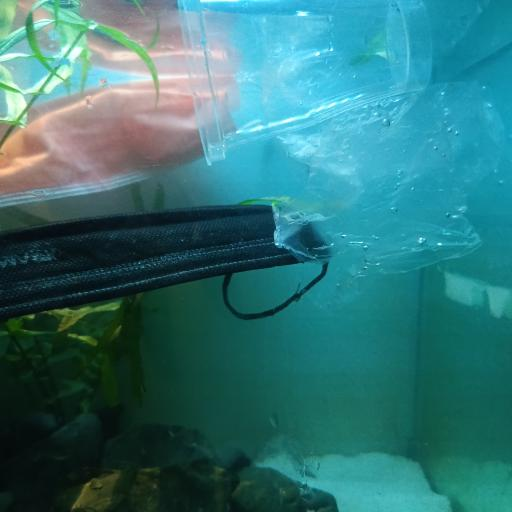mask: (0, 202, 328, 321), (0, 85, 230, 207)
plastic_bag: (272, 72, 512, 289)
plastic_cup: (176, 0, 428, 164)
